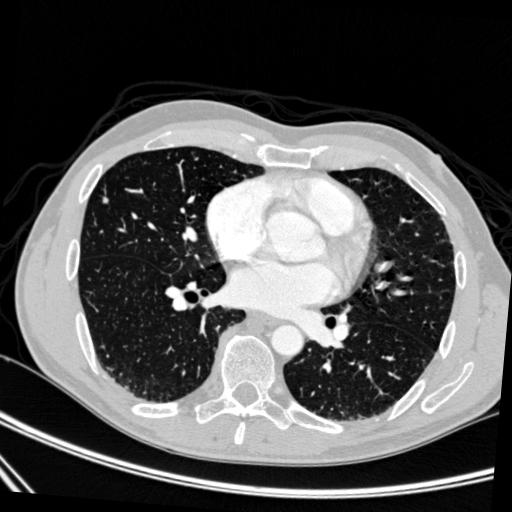nodule: (99, 193, 111, 205)
